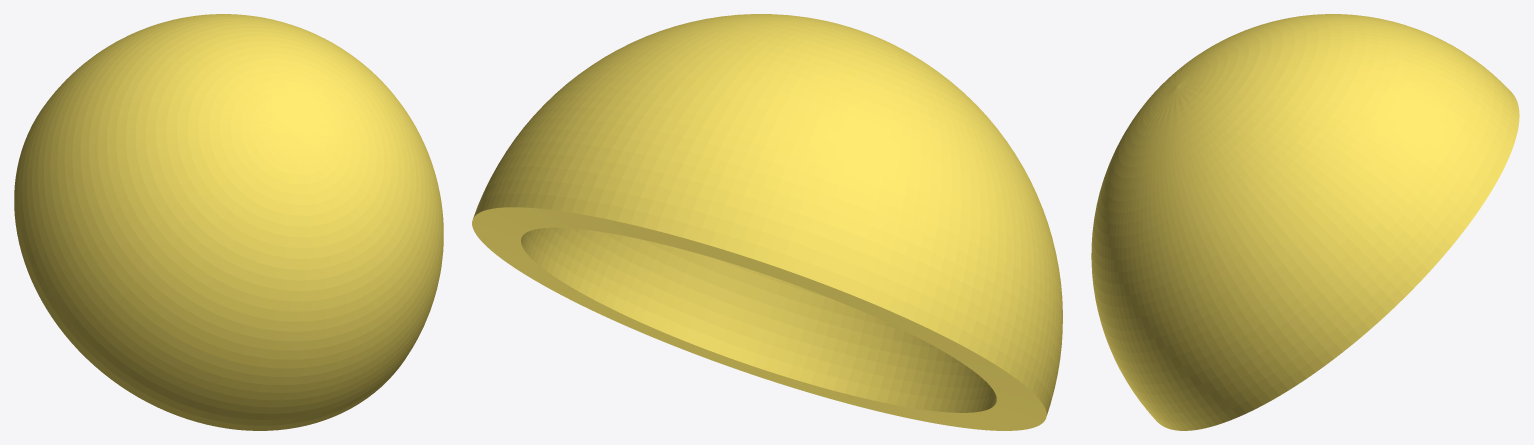
The model's file is techman.gltf.
The picture shows the model from 3 angles, left to right: view 1: azimuth 30°, elevation 25°; view 2: azimuth 150°, elevation 25°; view 3: azimuth 270°, elevation 25°; orthographic projection. The views are drawn at different scales.
Parts seen in each view (by area): view 1: Sphere; view 2: Sphere; view 3: Sphere.
Boxes of the visible parts, x1,y1,x2,y2 form: Sphere: (14, 14, 443, 430); Sphere: (472, 14, 1062, 430); Sphere: (1091, 14, 1519, 430).
Size of the model in its own units: 1.97 by 1.63 by 1.75.
